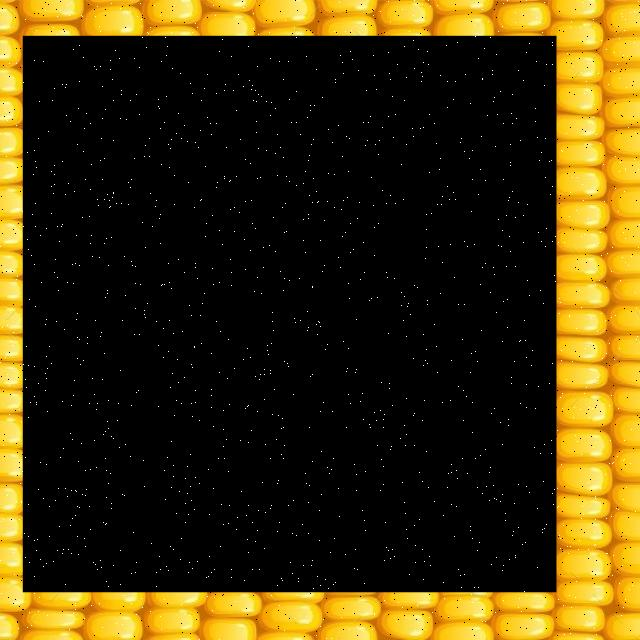Corn: (23, 37, 556, 593)
